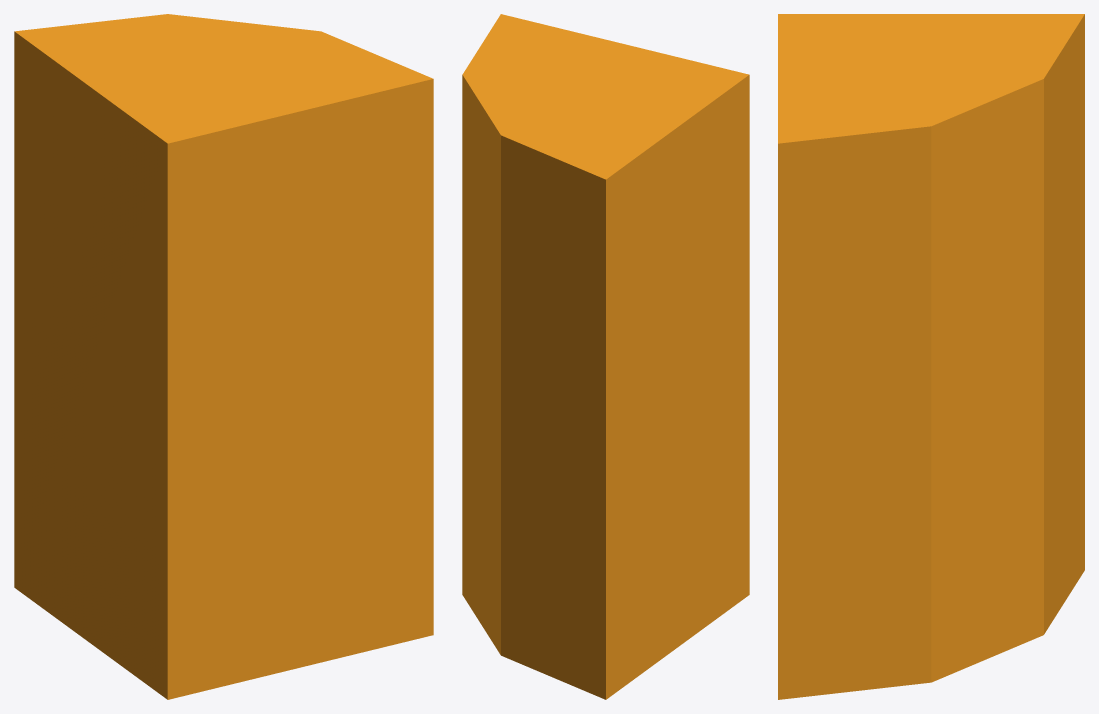
File: SM_Primitive_Cylander_Wedge_01.fbx
The picture shows the model from 3 angles, left to right: view 1: azimuth 30°, elevation 25°; view 2: azimuth 150°, elevation 25°; view 3: azimuth 270°, elevation 25°; orthographic projection. The views are drawn at different scales.
Parts seen in each view (by area): view 1: SM_Primitive_Cylander_Wedge_01; view 2: SM_Primitive_Cylander_Wedge_01; view 3: SM_Primitive_Cylander_Wedge_01.
Boxes of the visible parts, <box> form: SM_Primitive_Cylander_Wedge_01: <box>14,14,433,699</box>; SM_Primitive_Cylander_Wedge_01: <box>462,14,749,699</box>; SM_Primitive_Cylander_Wedge_01: <box>778,14,1084,699</box>.
Size of the model in its own units: 50 by 100 by 50.
